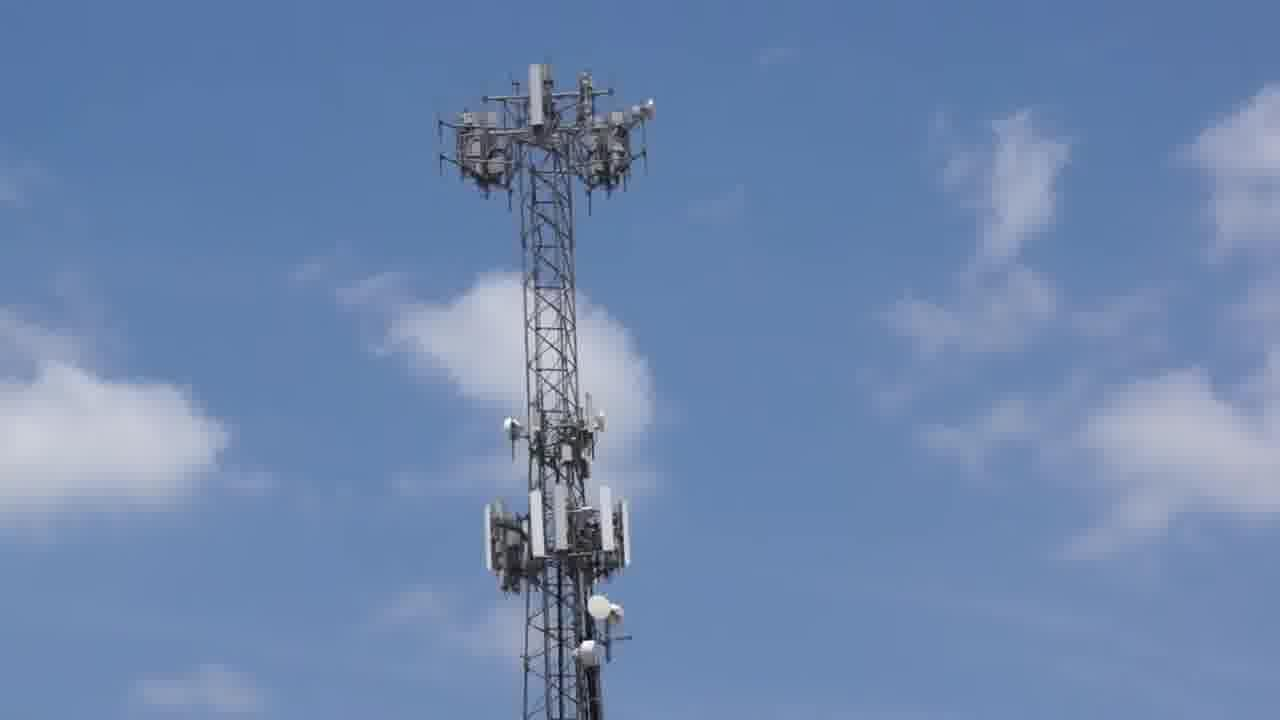Microwave Antenna: (589, 591, 615, 627), (501, 417, 531, 447), (630, 101, 661, 127), (579, 641, 608, 668), (608, 601, 631, 627), (595, 409, 608, 434)
antenna: (522, 59, 552, 135), (596, 480, 620, 558), (527, 484, 548, 571), (551, 479, 576, 552), (482, 499, 496, 563)
